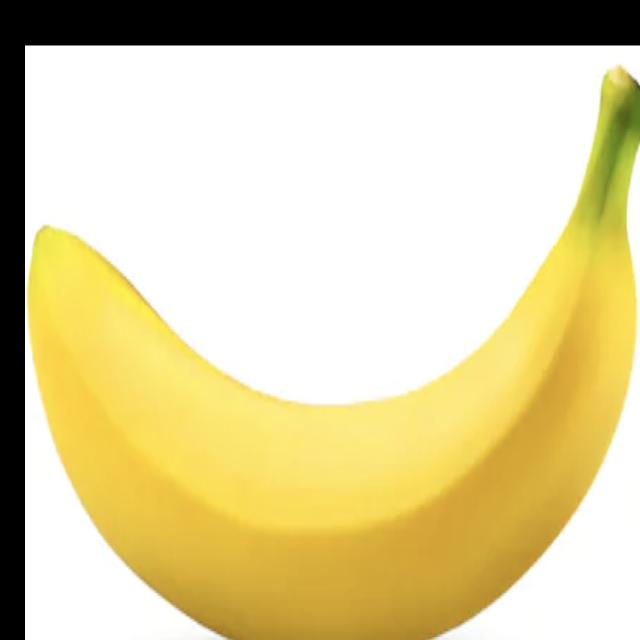Ripe: (23, 55, 640, 640), (639, 50, 640, 74)
